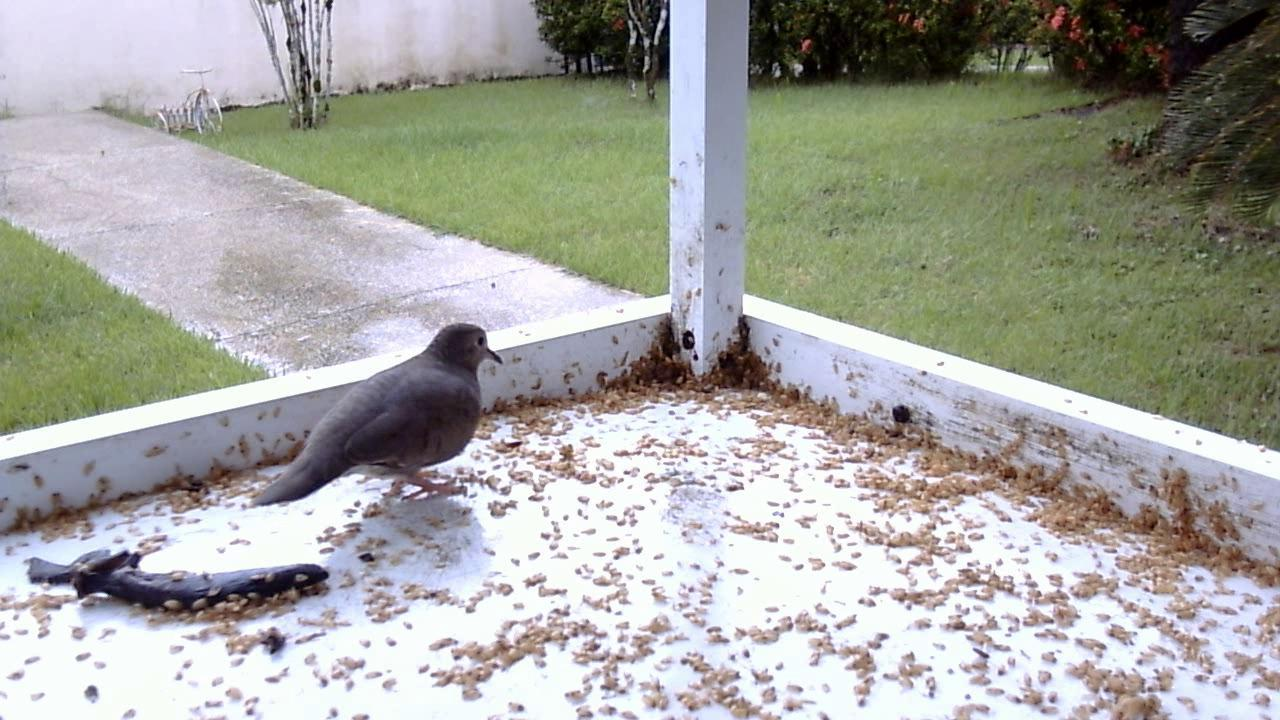rolinha: (220, 315, 510, 521)
